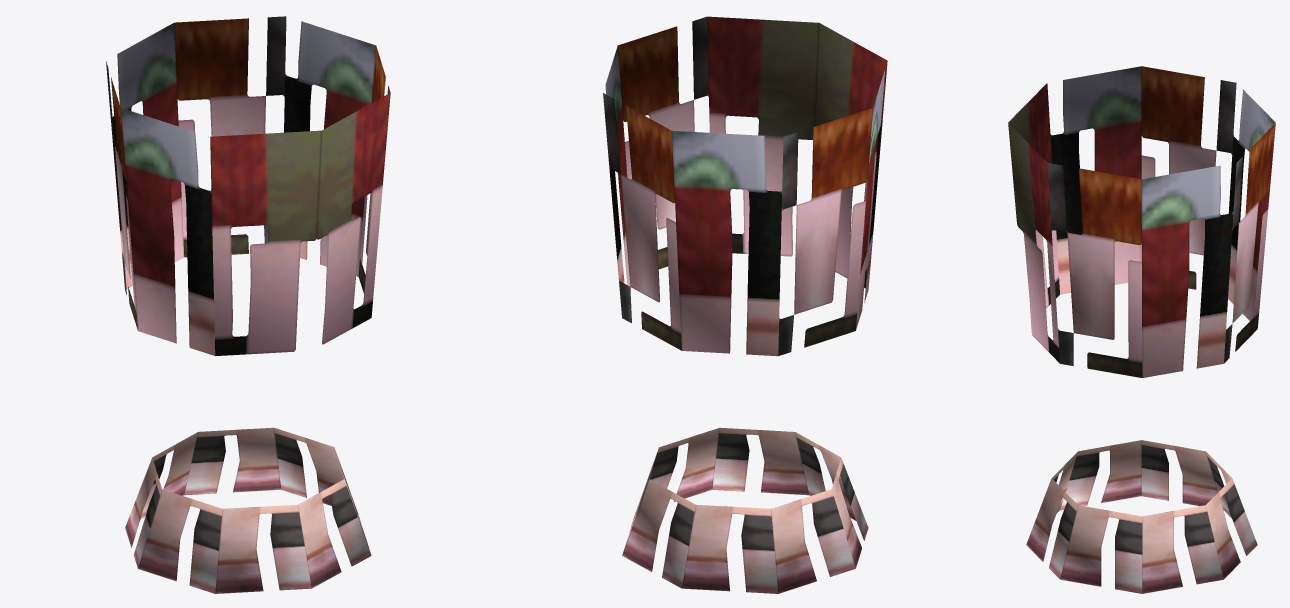
The picture shows the model from 3 angles, left to right: view 1: azimuth 30°, elevation 25°; view 2: azimuth 150°, elevation 25°; view 3: azimuth 270°, elevation 25°; orthographic projection. The views are drawn at different scales.
Parts seen in each view (by area): view 1: T1L1M006_6; view 2: T1L1M006_6; view 3: T1L1M006_6.
Part boxes in pixels (x1,y1,x2,y2): T1L1M006_6: [106, 16, 390, 593]; T1L1M006_6: [603, 16, 887, 593]; T1L1M006_6: [1008, 66, 1275, 593].
Bounding box in the file's own units: 0.7939 × 0.7617 × 0.4326.
